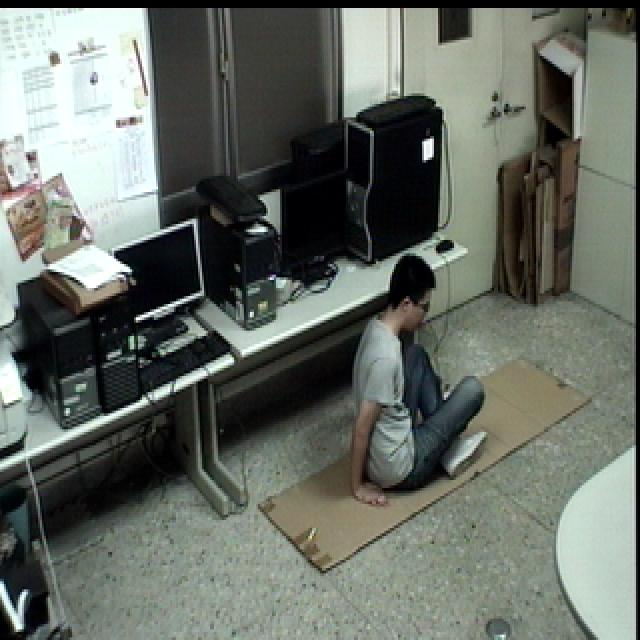sit: (336, 238, 496, 511)
